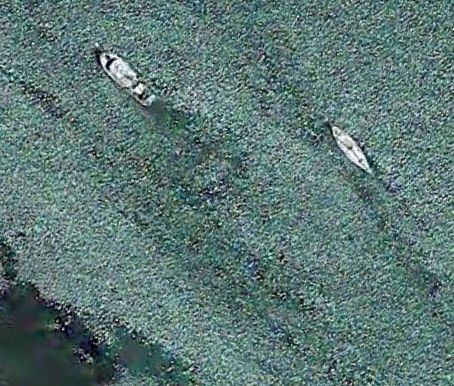boat: (99, 50, 157, 110), (328, 122, 376, 176)
